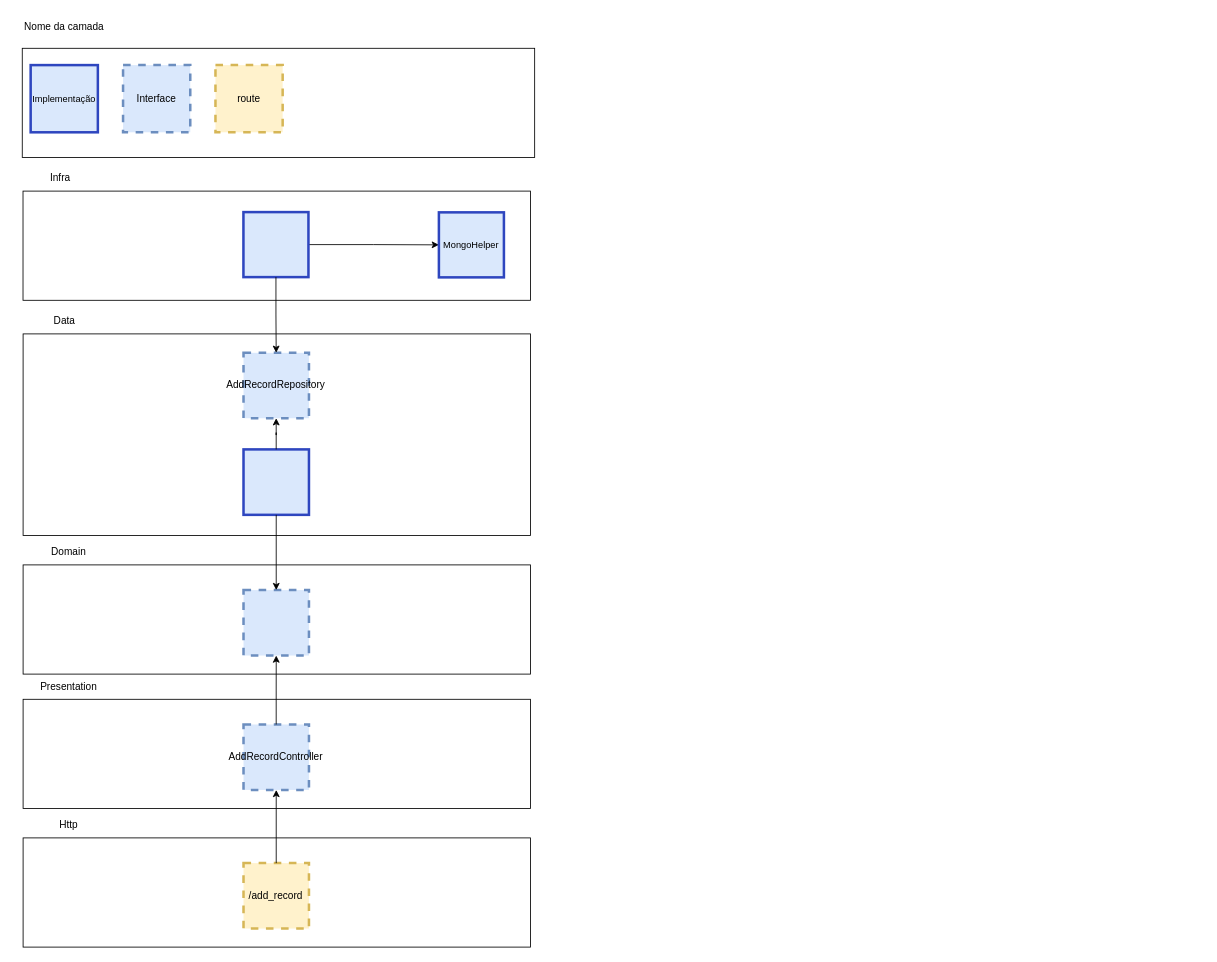
The diagram is 1217 pixels wide and 962 high, and some of its shapes have lost their labels. The shapes that lost their labels are listed below. From the top down, each one's centre as x and y in pixels, then its label:
At [275,244]: "RecordMongoRepository".
At [276,482]: "DBAddRecord".
At [276,622]: "AddRecord".
